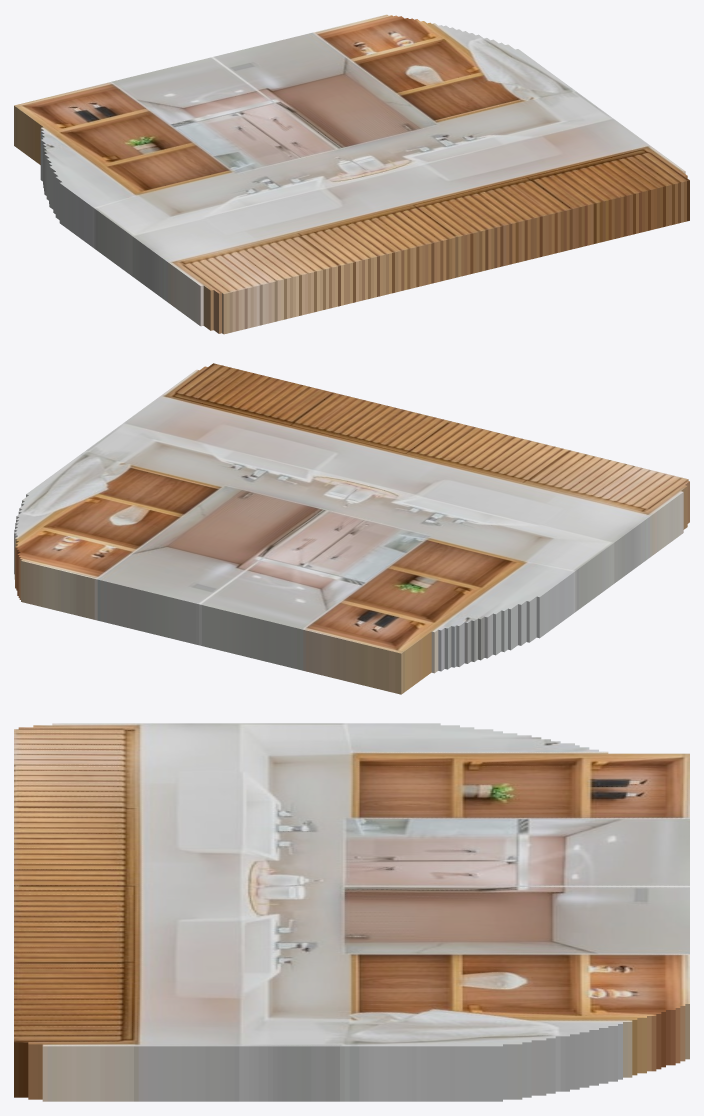
The model's file is movelbanheiro.glb.
3 views of the same model, one above another, from view 1: azimuth 30°, elevation 25°; view 2: azimuth 150°, elevation 25°; view 3: azimuth 270°, elevation 25° (orthographic). The views are drawn at different scales.
Bounding box in the file's own units: 0.1 × 0.008 × 0.0884.
1 material, 1 textured.
